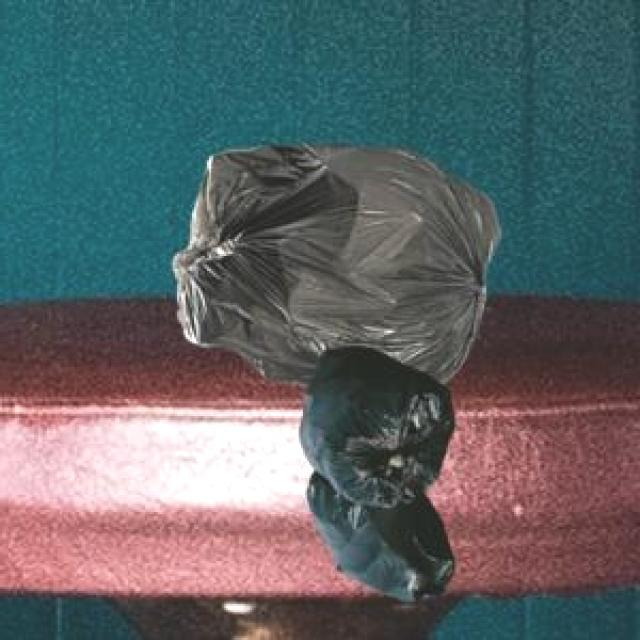Trashbag: (167, 133, 506, 391), (293, 344, 459, 511), (308, 496, 467, 608)
